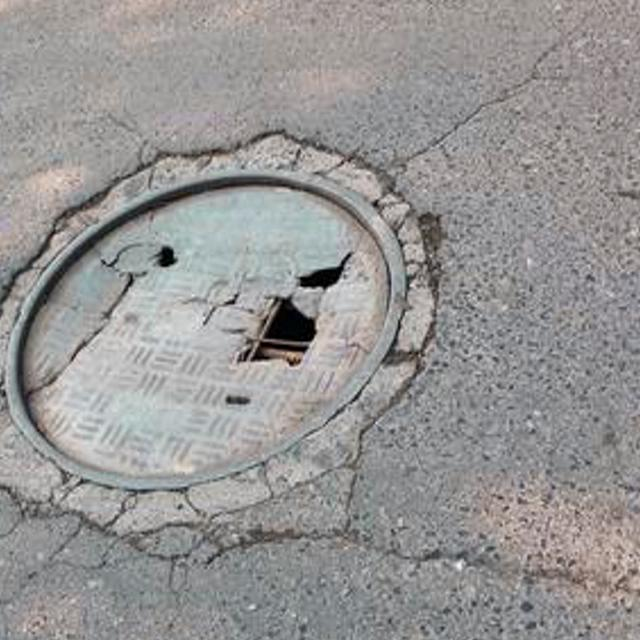broke: (0, 123, 444, 554)
